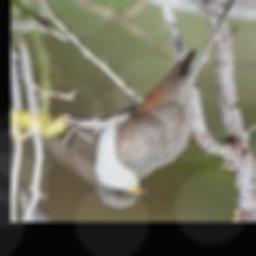Cuckoo: (92, 0, 236, 208)
